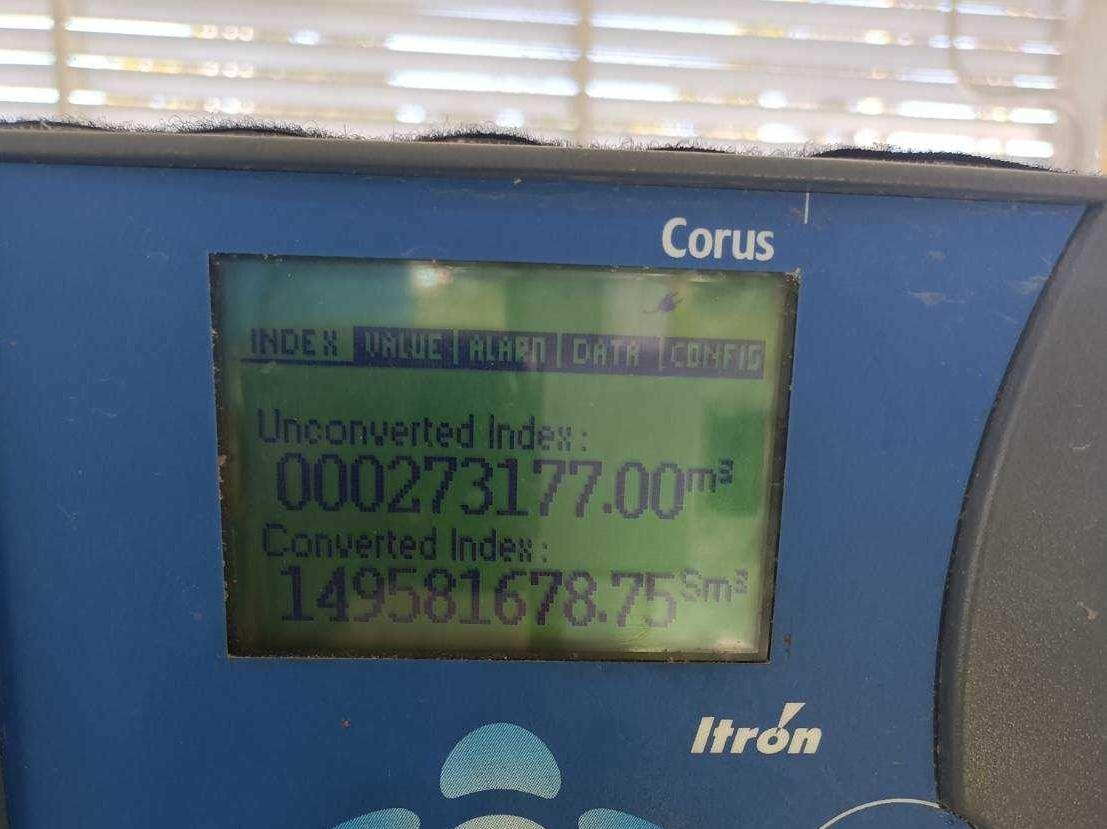digital_screen: (205, 253, 799, 663)
